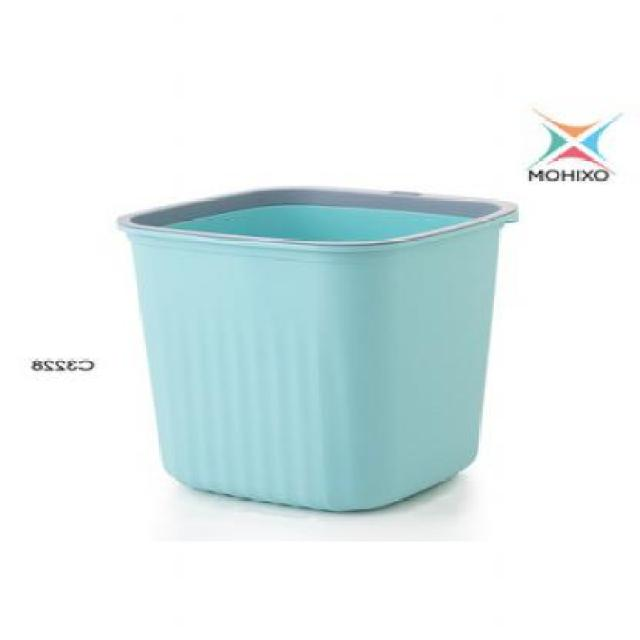garbage container: (100, 180, 528, 525)
